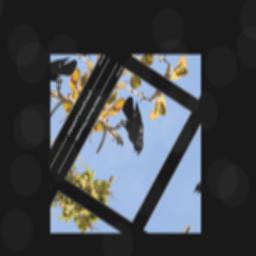Crow: (106, 95, 161, 157)
